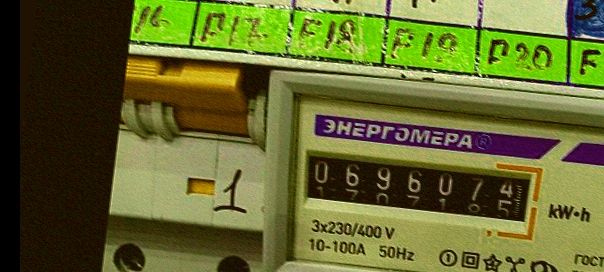0: (311, 156, 332, 183), (437, 168, 456, 196)
4: (499, 175, 515, 197)
5: (496, 197, 513, 217)
6: (342, 159, 363, 186), (406, 165, 425, 193)
7: (467, 173, 486, 201)
9: (374, 163, 394, 191)
screen: (293, 135, 547, 241)
